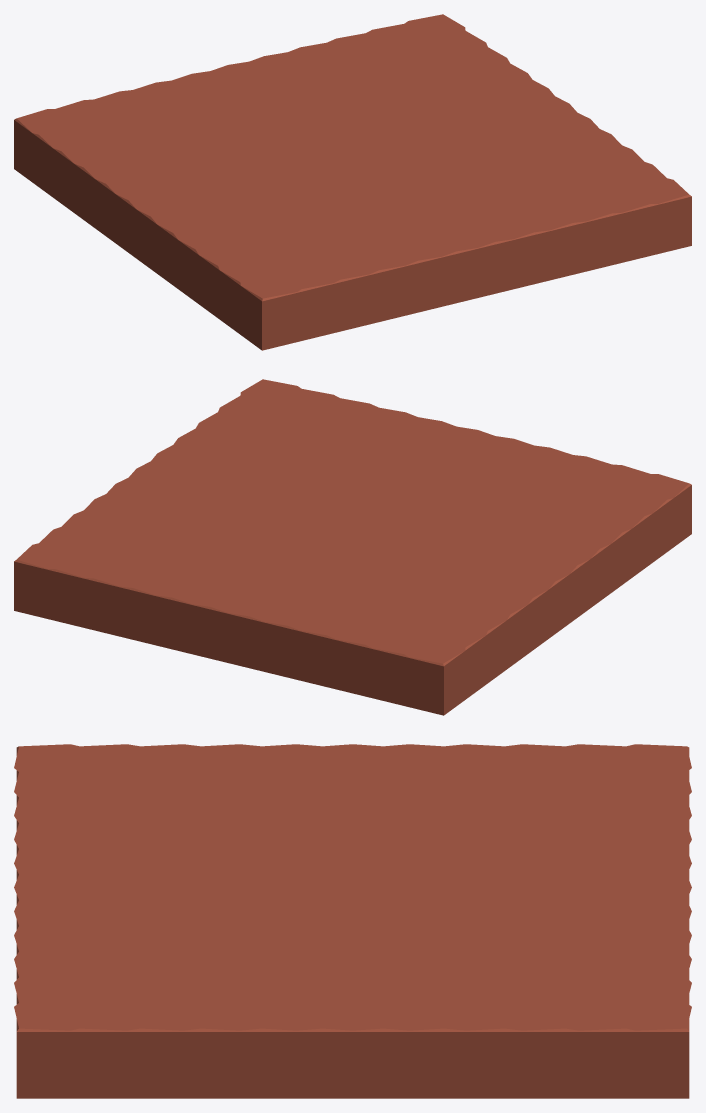
Rendered from mahsulot.glb.
3 views of the same model, one above another, from view 1: azimuth 30°, elevation 25°; view 2: azimuth 150°, elevation 25°; view 3: azimuth 270°, elevation 25° (orthographic). The views are drawn at different scales.
Parts seen in each view (by area): view 1: mahsulot_A; view 2: mahsulot_A; view 3: mahsulot_A.
Boxes of the visible parts, bbox=[...] form: mahsulot_A: bbox=[14, 14, 691, 350]; mahsulot_A: bbox=[14, 379, 691, 715]; mahsulot_A: bbox=[14, 744, 691, 1098].
Size of the model in its own units: 0.4 by 0.045 by 0.4.
